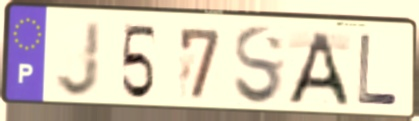5: (118, 22, 158, 100)
7: (176, 26, 222, 102)
A: (284, 30, 352, 109)
J: (53, 19, 103, 100)
L: (356, 32, 401, 109)
S: (231, 23, 286, 108)
